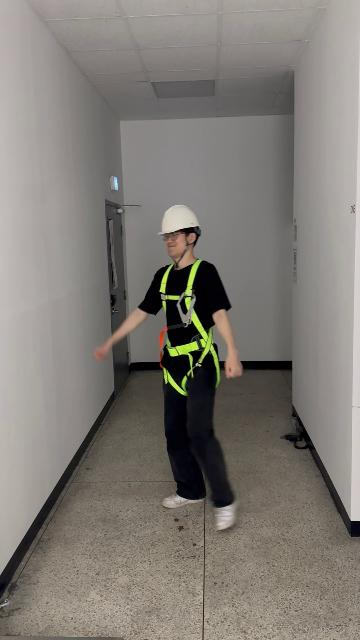helmet_worn: (156, 203, 202, 236)
shoe_not_worn: (212, 495, 239, 532), (162, 492, 207, 509)
vest_worn: (156, 261, 219, 395)
